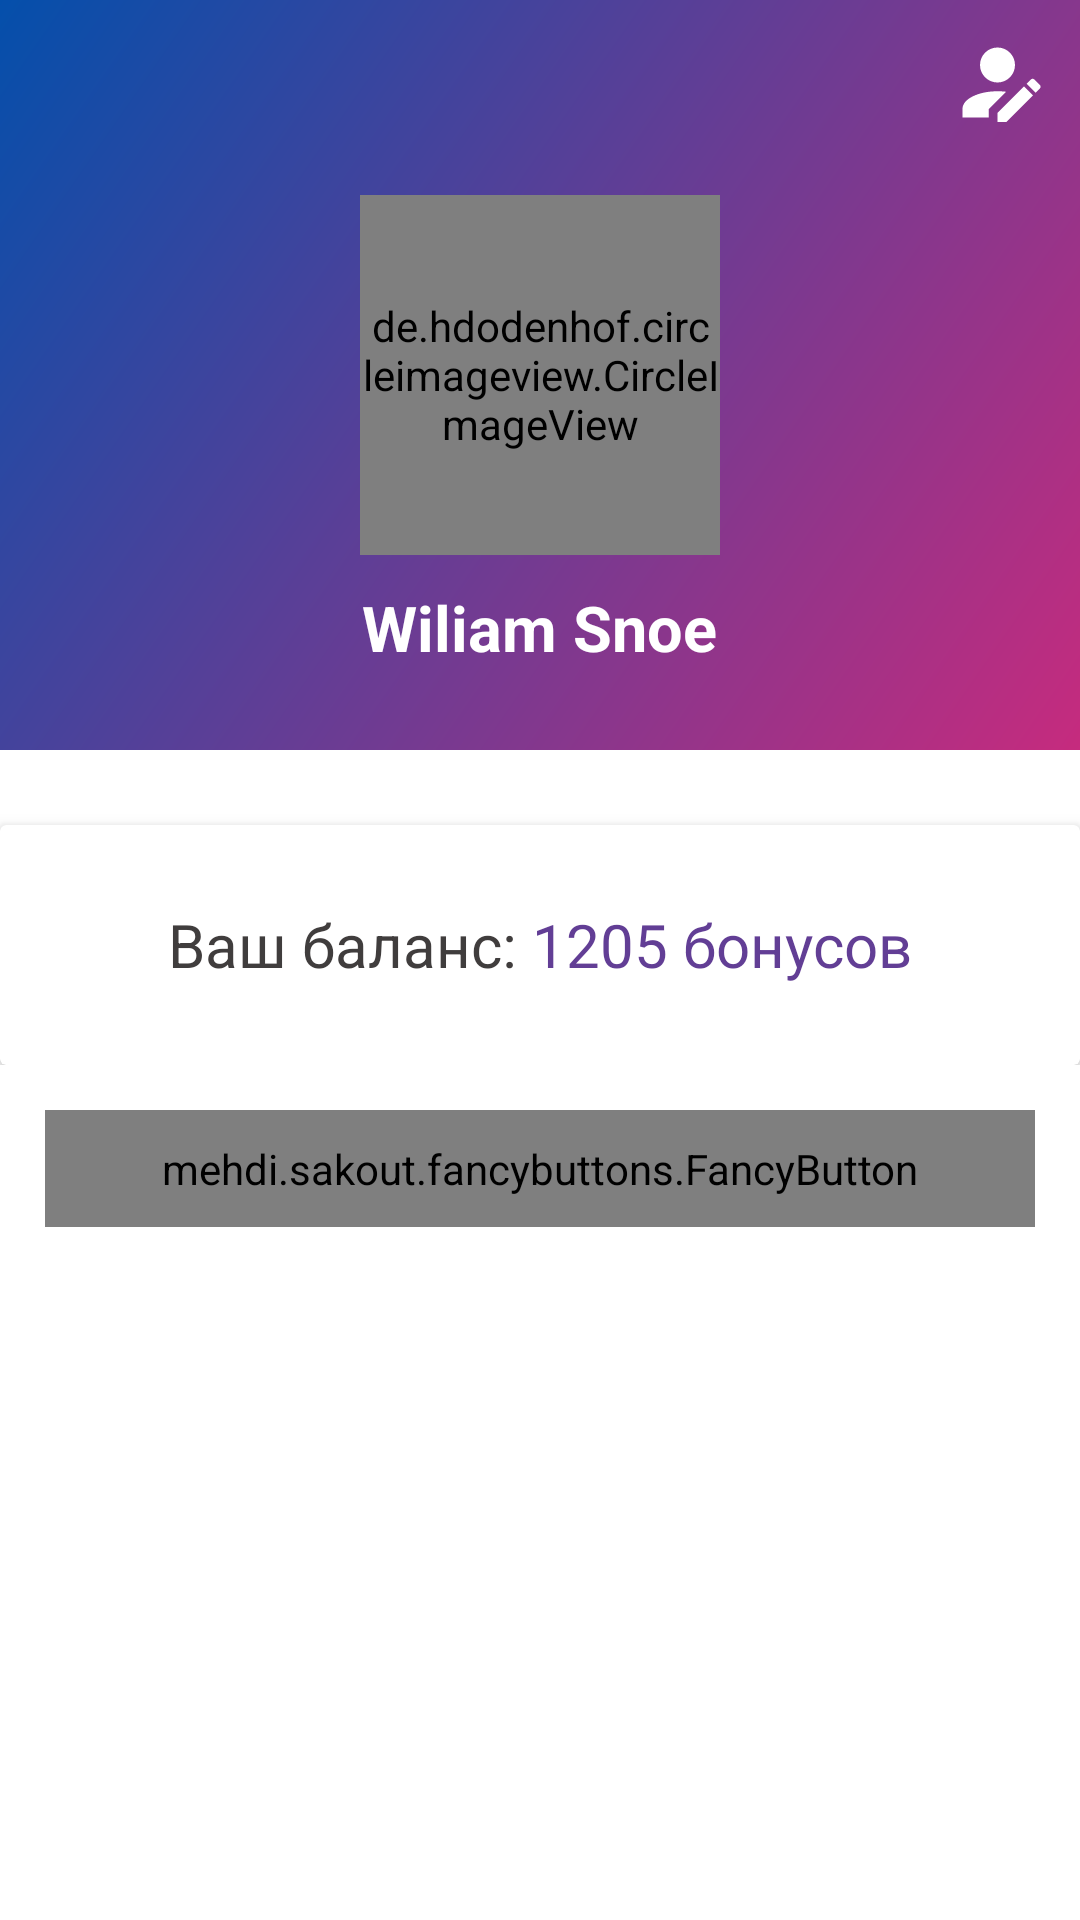

Icon bounding boxes for this 1080px x 1920px phone screenshot, format bbox=(x1, y1, x2, y2):
account edit: bbox=(962, 47, 1041, 122)
